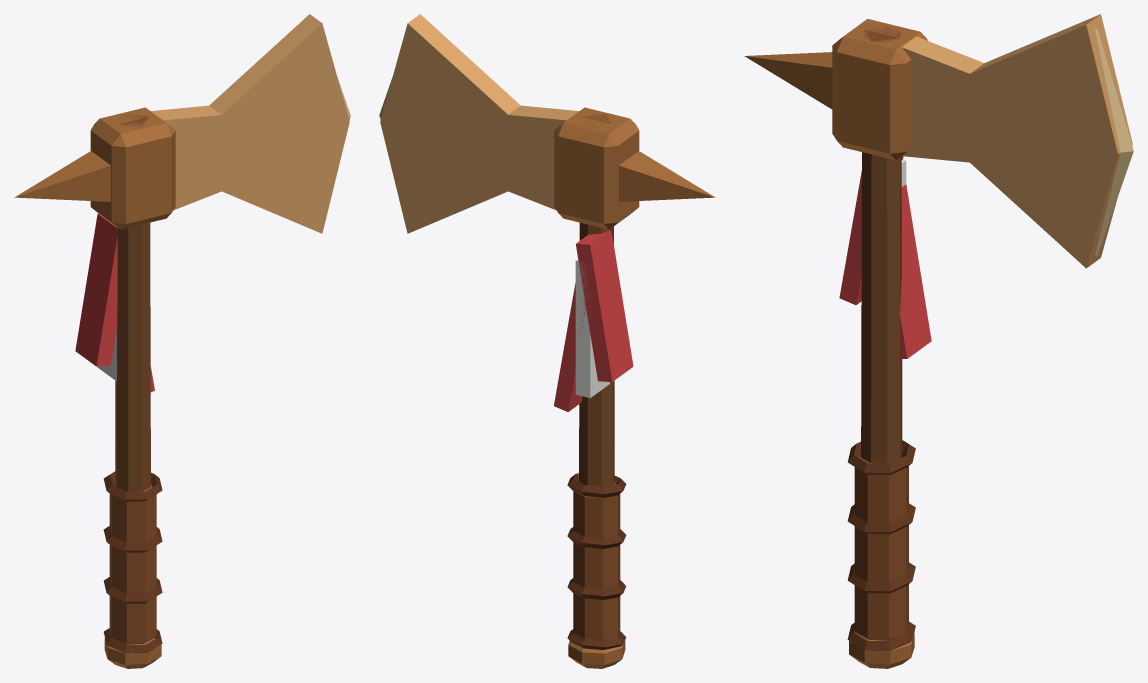
File: WoodTomahawk.fbx
The picture shows the model from 3 angles, left to right: view 1: azimuth 30°, elevation 25°; view 2: azimuth 150°, elevation 25°; view 3: azimuth 330°, elevation 25°; orthographic projection. The views are drawn at different scales.
Visible parts, largest first — view 1: WoodTomahawk; view 2: WoodTomahawk; view 3: WoodTomahawk.
Boxes of the visible parts, x1,y1,x2,y2 form: WoodTomahawk: [14, 14, 350, 668]; WoodTomahawk: [379, 14, 715, 668]; WoodTomahawk: [744, 14, 1133, 668].
Bounding box in the file's own units: 1.84 × 3.12 × 0.35.
Materials: 1 (1 with a texture image).
